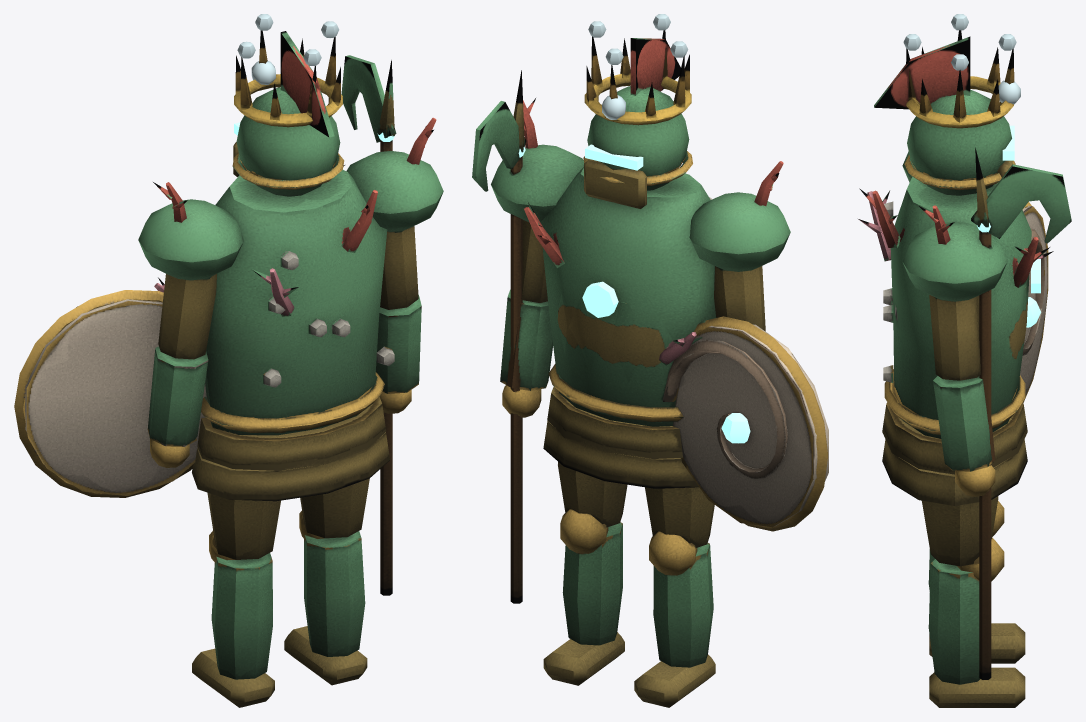
The model's file is alpha_coral_warden.fbx.
The picture shows the model from 3 angles, left to right: view 1: azimuth 30°, elevation 25°; view 2: azimuth 150°, elevation 25°; view 3: azimuth 270°, elevation 25°; orthographic projection.
Parts seen in each view (by area): view 1: Body, ForearmL, ArmL, Head, KneeL, KneeR, ForearmR, ArmR, LegL, Trophy_PearlCrown, LegR, Trophy_PearlCrown_Glow_Pearl; view 2: Body, ForearmL, ForearmR, Head, KneeL, KneeR, ArmL, ArmR, Trophy_PearlCrown, LegL, LegR, Trophy_PearlCrown_Glow_Pearl (+3 smaller); view 3: Body, ForearmR, Head, ArmR, KneeR, LegR, Trophy_PearlCrown, ForearmL, KneeL, Trophy_PearlCrown_Glow_Pearl.
Part boxes in pixels (x1,y1,x2,y2): Body: (154, 165, 394, 501); ForearmL: (14, 290, 208, 497); ArmL: (138, 182, 243, 359); Head: (232, 31, 344, 196); KneeL: (192, 531, 274, 707); KneeR: (284, 511, 367, 685); ForearmR: (341, 55, 421, 595); ArmR: (346, 117, 443, 309); LegL: (207, 492, 280, 559); Trophy_PearlCrown: (234, 30, 342, 127); LegR: (300, 478, 369, 538); Trophy_PearlCrown_Glow_Pearl: (237, 14, 339, 84); Body: (524, 167, 716, 488); ForearmL: (662, 316, 828, 531); ForearmR: (472, 70, 553, 603); Head: (583, 38, 692, 208); KneeL: (634, 531, 715, 707); KneeR: (543, 509, 624, 685); ArmL: (689, 161, 790, 331); ArmR: (491, 98, 583, 302); Trophy_PearlCrown: (584, 30, 691, 125); LegL: (645, 487, 714, 547); LegR: (558, 462, 627, 527); Trophy_PearlCrown_Glow_Pearl: (588, 14, 688, 119); Body: (858, 176, 1053, 505); ForearmR: (933, 147, 1071, 679); Head: (874, 36, 1015, 195); ArmR: (902, 205, 1007, 380); KneeR: (928, 537, 1025, 707); LegR: (922, 496, 998, 566); Trophy_PearlCrown: (906, 30, 1014, 128); ForearmL: (1020, 202, 1048, 402); KneeL: (928, 500, 1025, 663); Trophy_PearlCrown_Glow_Pearl: (903, 14, 1020, 104).
Size of the model in its own units: 555 by 915 by 275.
Materials: 3 (1 with a texture image).
